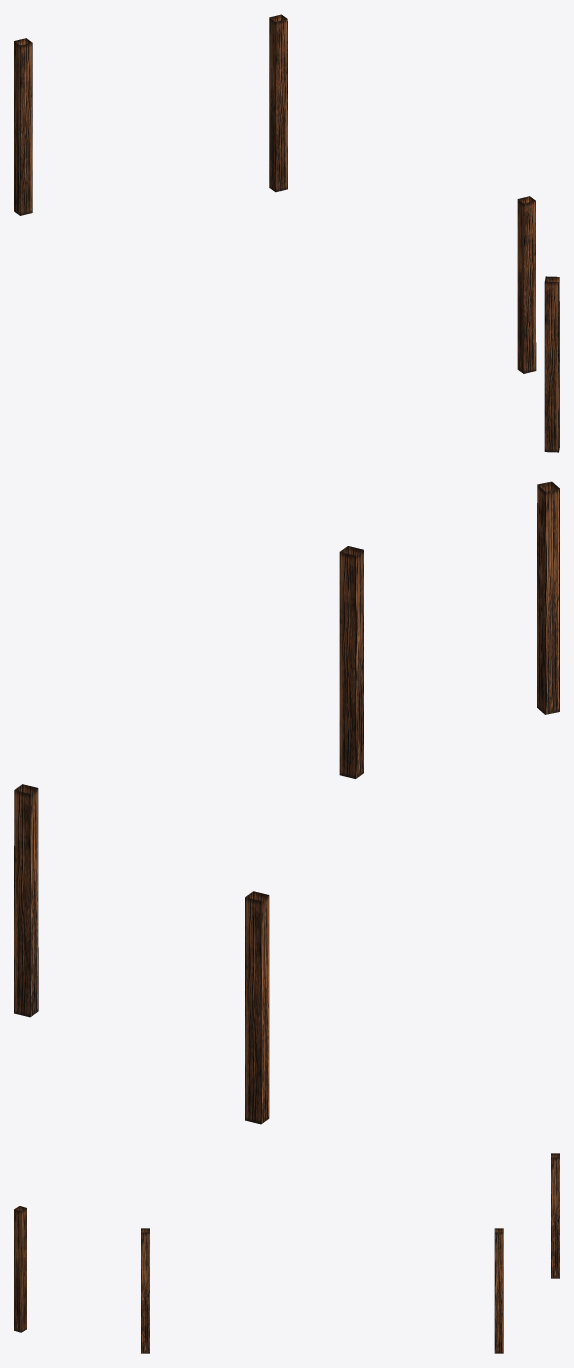
Rendered from LAKETOWN_EXTERIOR_PS_LT_BEAMS_3838376.fbx.
The picture shows the model from 3 angles, top to bottom: view 1: azimuth 30°, elevation 25°; view 2: azimuth 150°, elevation 25°; view 3: azimuth 270°, elevation 25°; orthographic projection. The views are drawn at different scales.
Parts seen in each view (by area): view 1: LAKETOWN_EXTERIOR_PS_LT_BEAMS_3838376; view 2: LAKETOWN_EXTERIOR_PS_LT_BEAMS_3838376; view 3: LAKETOWN_EXTERIOR_PS_LT_BEAMS_3838376.
Boxes of the visible parts, <box> form: LAKETOWN_EXTERIOR_PS_LT_BEAMS_3838376: <box>14,14,559,452</box>; LAKETOWN_EXTERIOR_PS_LT_BEAMS_3838376: <box>14,481,559,1124</box>; LAKETOWN_EXTERIOR_PS_LT_BEAMS_3838376: <box>14,1153,559,1353</box>.
Bounding box in the file's own units: 43969 × 31371 × 127950.
Materials: 1 (1 with a texture image).
